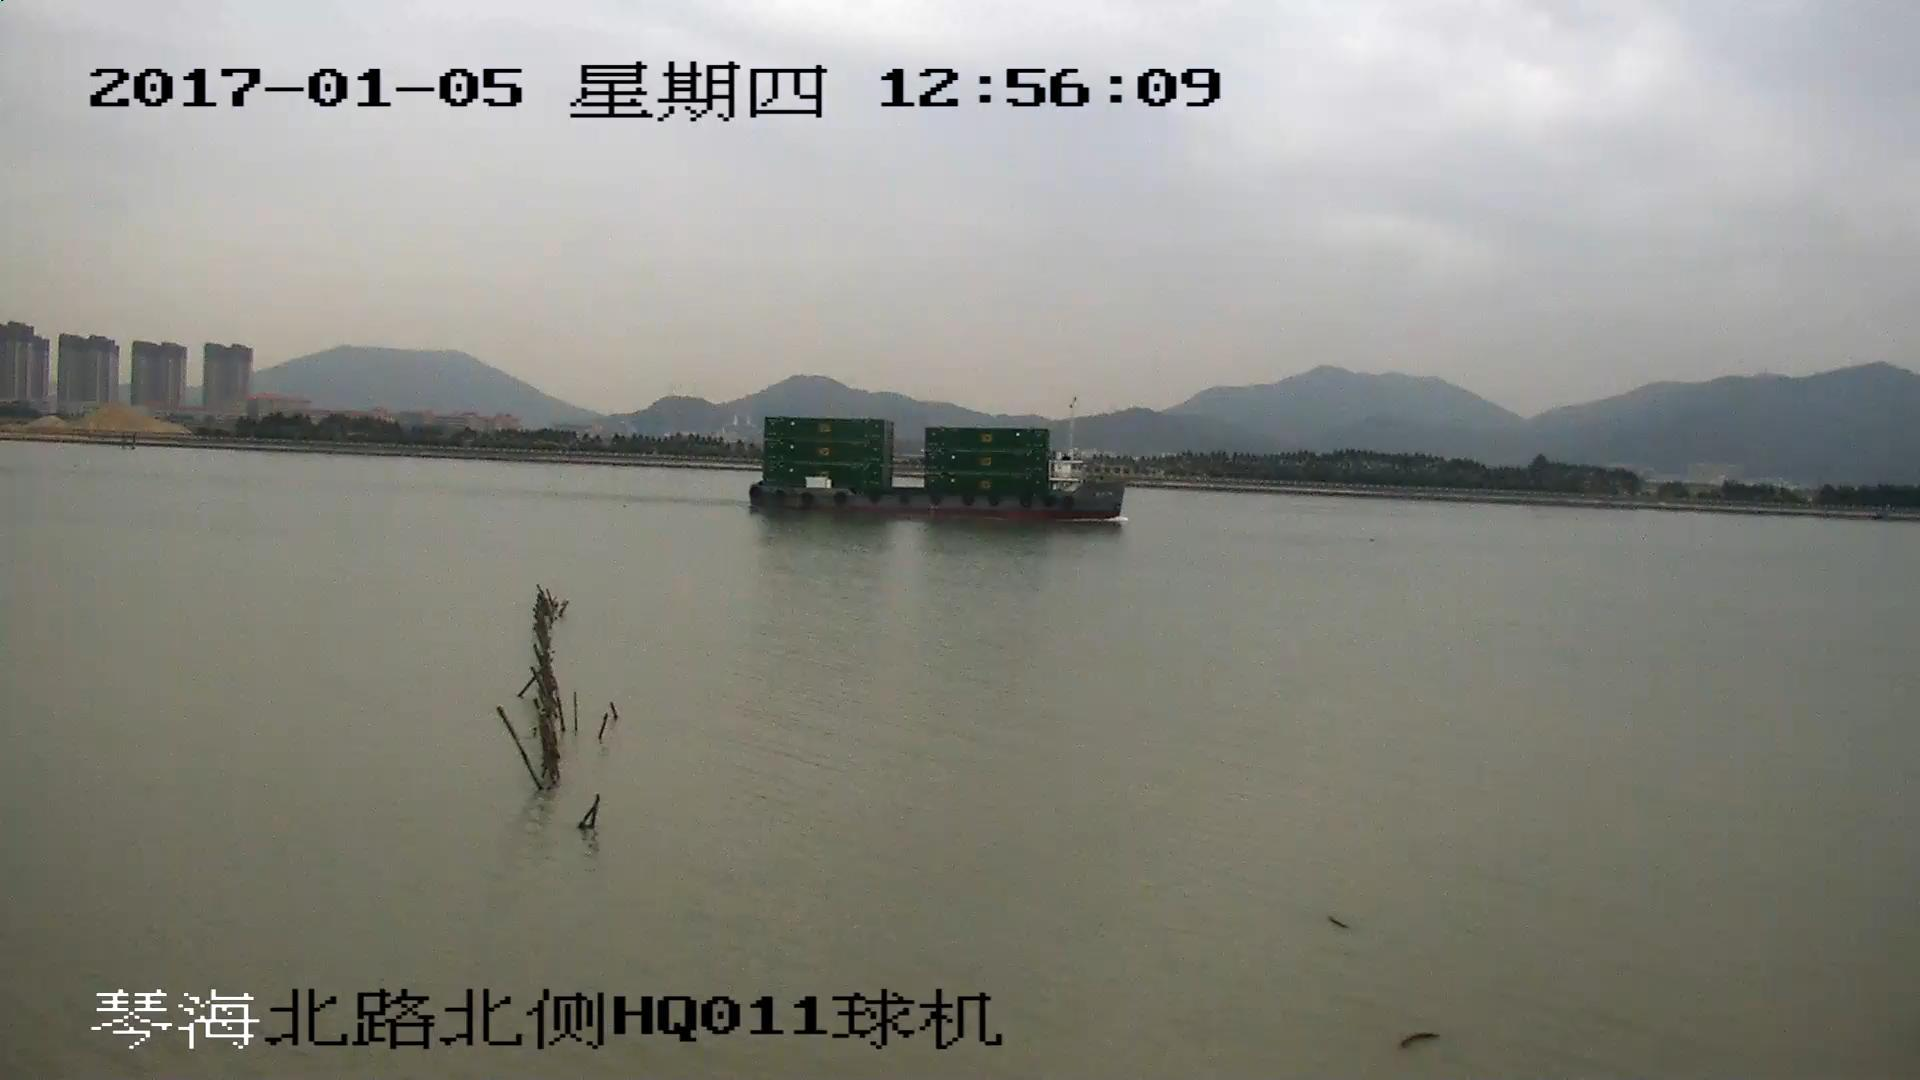Ship: (752, 419, 1121, 525)
